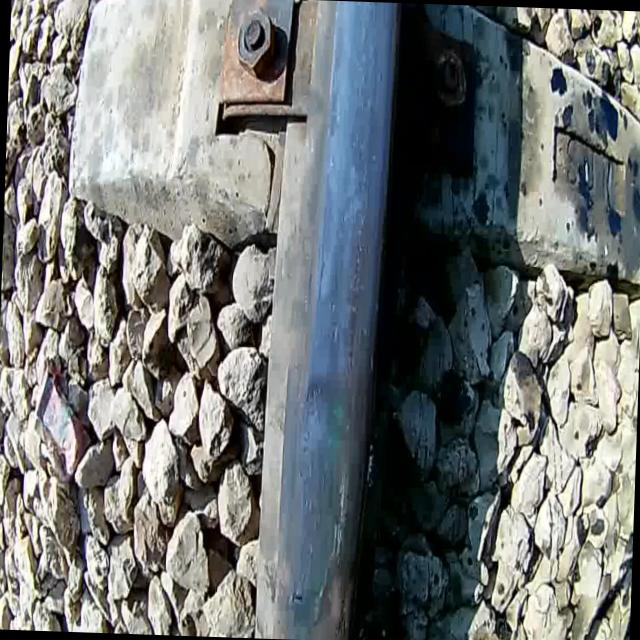Squats: (285, 525, 362, 640), (294, 442, 348, 594), (298, 328, 360, 444)
